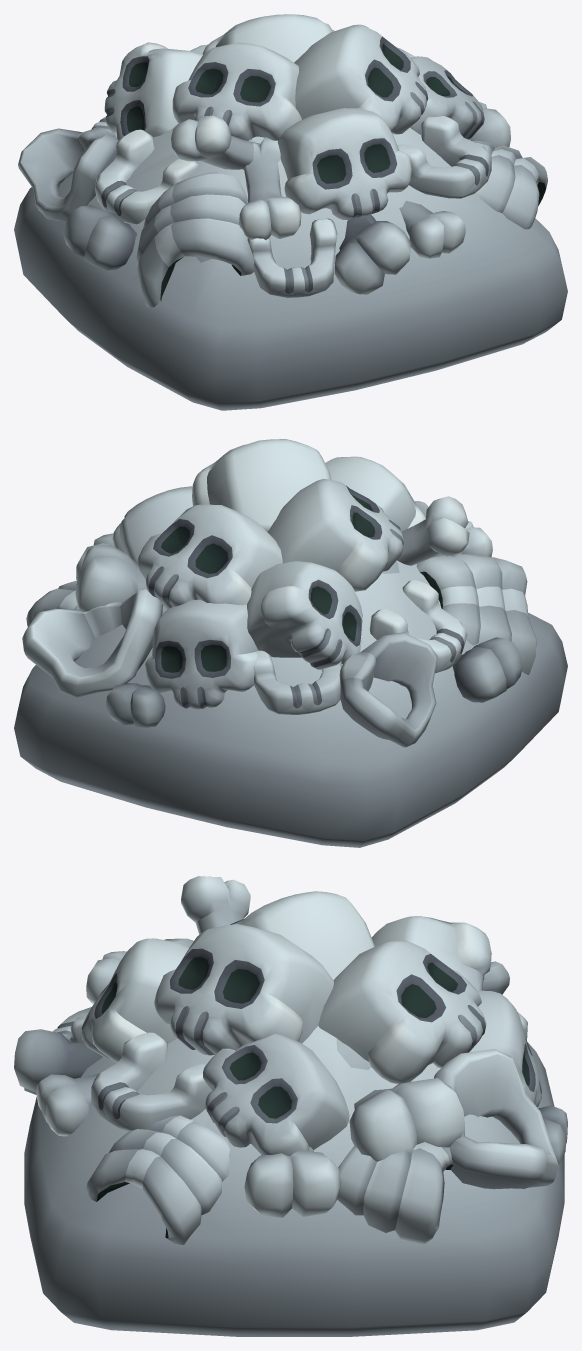
Rendered from skull_pile_large_LOD_group.fbx.
3 renders of one model, top to bottom at view 1: azimuth 30°, elevation 25°; view 2: azimuth 150°, elevation 25°; view 3: azimuth 270°, elevation 25°, orthographic. The views are drawn at different scales.
Visible parts, largest first — view 1: skull_pile_large_LOD0; view 2: skull_pile_large_LOD0; view 3: skull_pile_large_LOD0.
Part boxes in pixels (<box>): skull_pile_large_LOD0: <box>14,14,567,410</box>; skull_pile_large_LOD0: <box>14,439,567,847</box>; skull_pile_large_LOD0: <box>14,876,567,1336</box>.
Size of what is drawn, in the model's own units: 252 by 156 by 242.
Materials: 1 (1 with a texture image).
